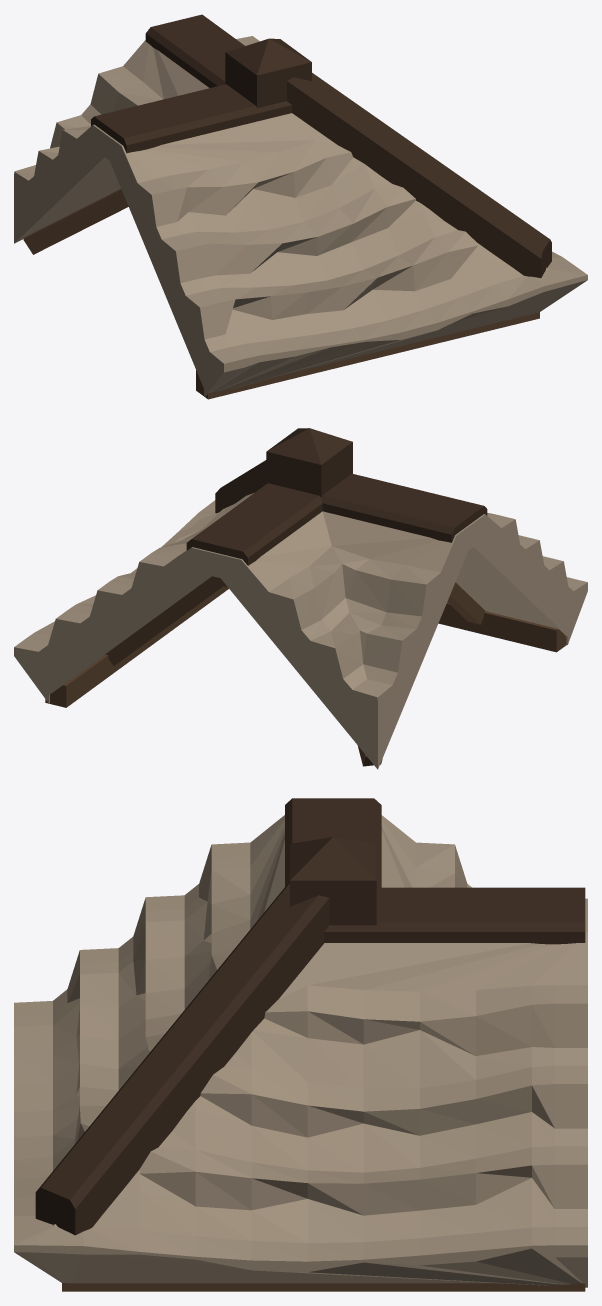
File: stage0_hip_roof_corner_section.glb
3 renders of one model, top to bottom at view 1: azimuth 30°, elevation 25°; view 2: azimuth 150°, elevation 25°; view 3: azimuth 270°, elevation 25°, orthographic. The views are drawn at different scales.
Visible parts, largest first — view 1: hip-roof-corner-mesh; view 2: hip-roof-corner-mesh; view 3: hip-roof-corner-mesh.
Part boxes in pixels (<box>): hip-roof-corner-mesh: <box>14,14,587,399</box>; hip-roof-corner-mesh: <box>14,428,587,769</box>; hip-roof-corner-mesh: <box>14,798,587,1291</box>.
Bounding box in the file's own units: 2.25 × 1.47 × 2.25.
